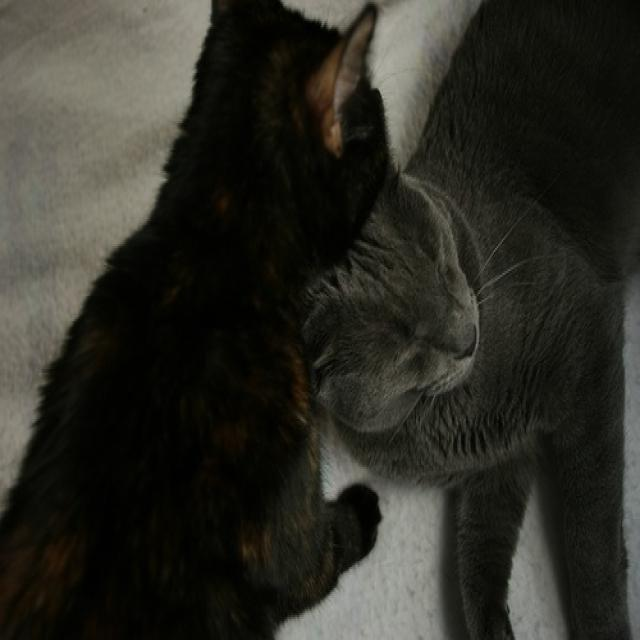cat: (2, 0, 390, 638), (306, 0, 639, 638)
